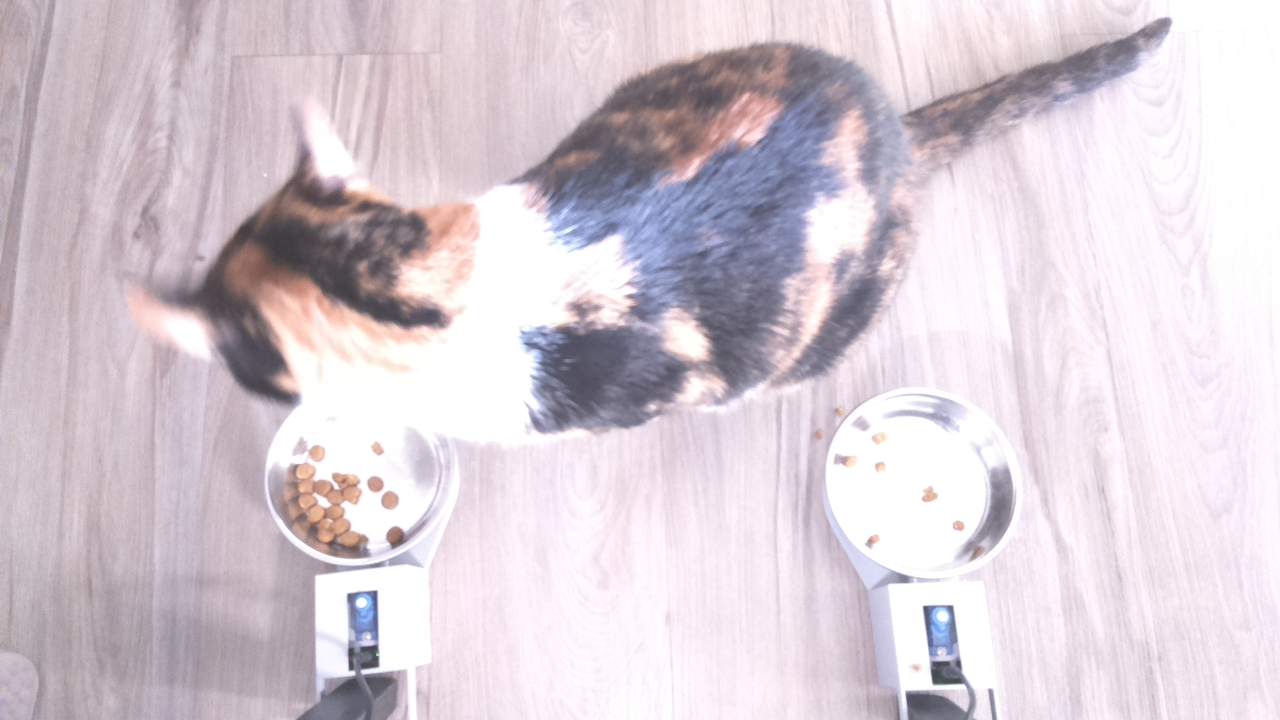bella: (123, 101, 539, 446)
open_bowl: (822, 383, 1022, 579), (256, 405, 465, 566)
